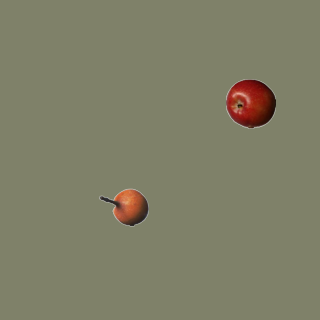Apple Braeburn: (225, 78, 275, 128)
Granadilla: (98, 182, 148, 232)
